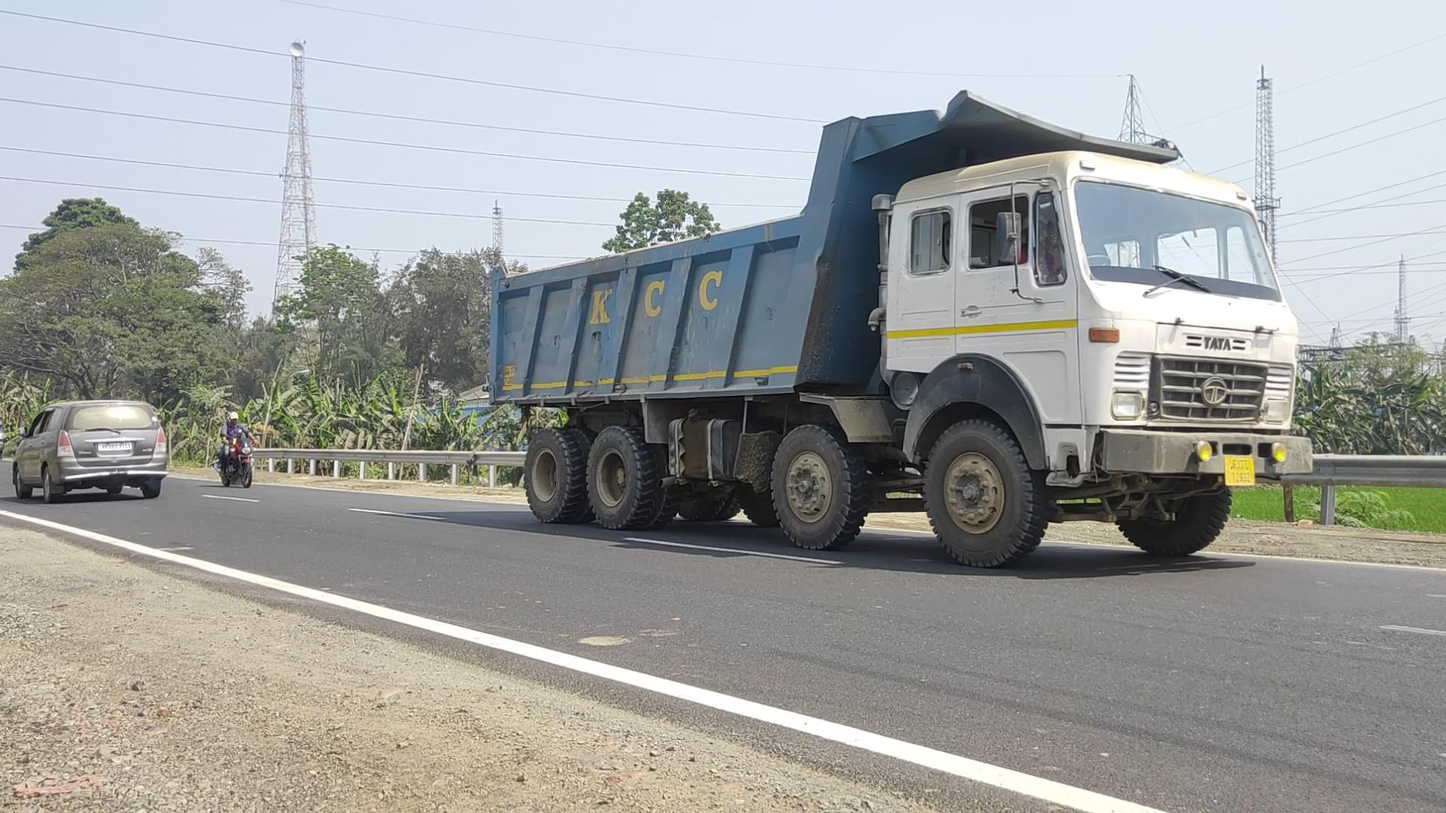bike: (217, 412, 261, 489)
car: (11, 399, 168, 504)
truck: (487, 87, 1315, 568)
